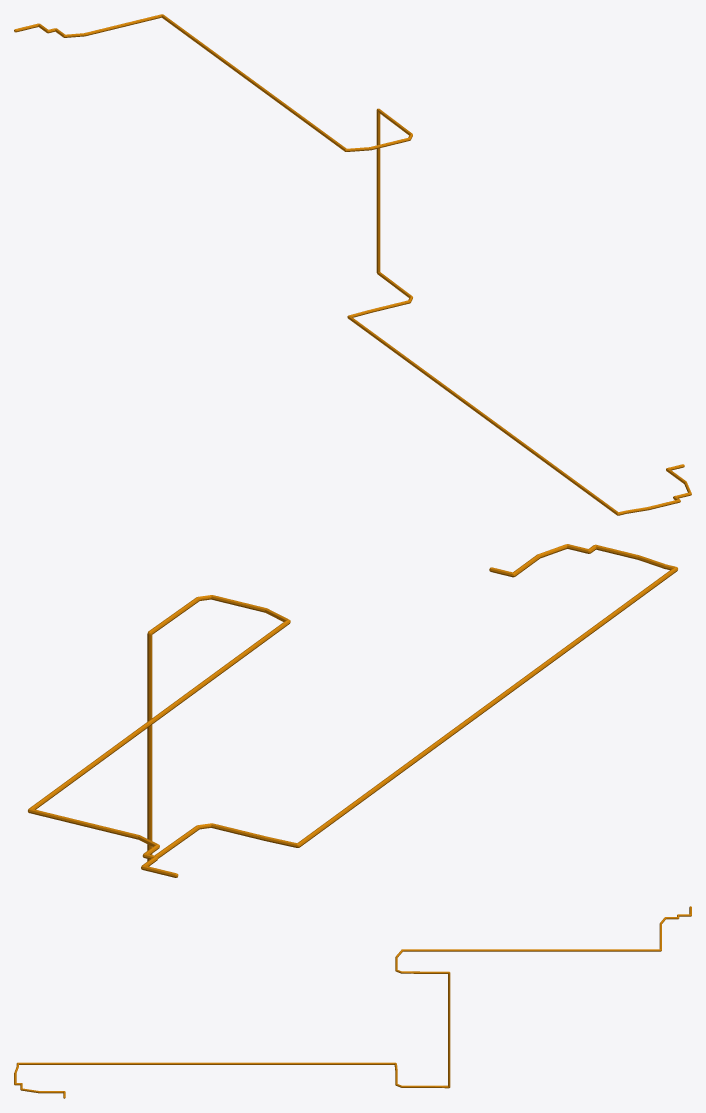
3 views of the same model, one above another, from view 1: azimuth 30°, elevation 25°; view 2: azimuth 150°, elevation 25°; view 3: azimuth 270°, elevation 25° (orthographic). The views are drawn at different scales.
Bounding box in the file's own units: 1444 × 1020 × 5382.
